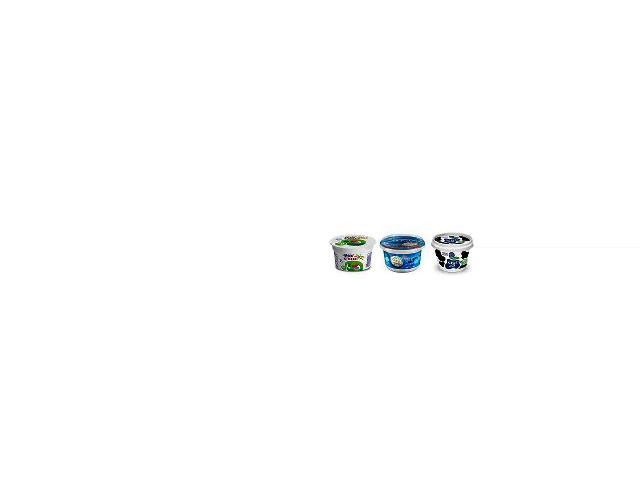cotage: (327, 232, 377, 275)
